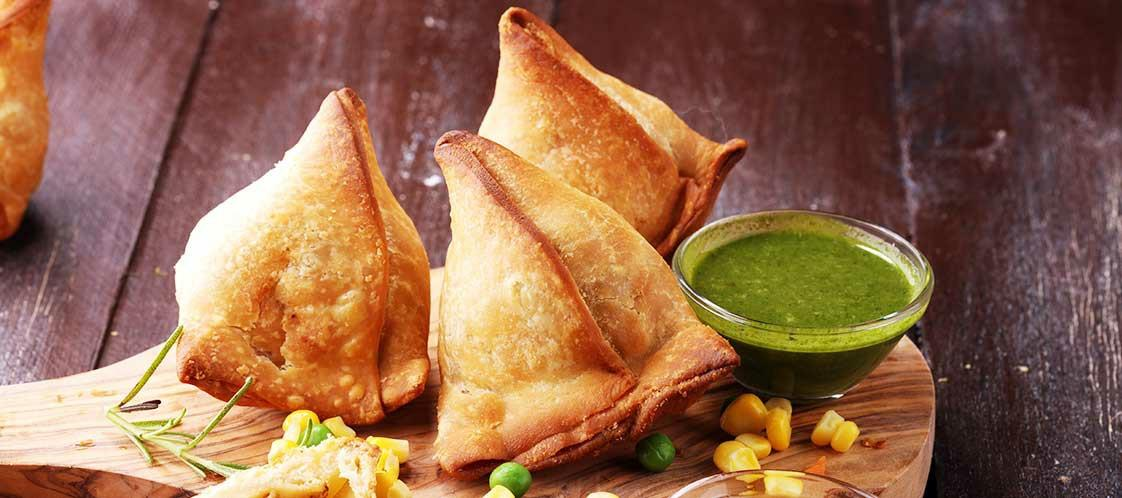GreenChutney: (691, 232, 909, 350)
Samosa: (433, 127, 740, 476), (175, 88, 429, 418), (478, 6, 746, 253)
